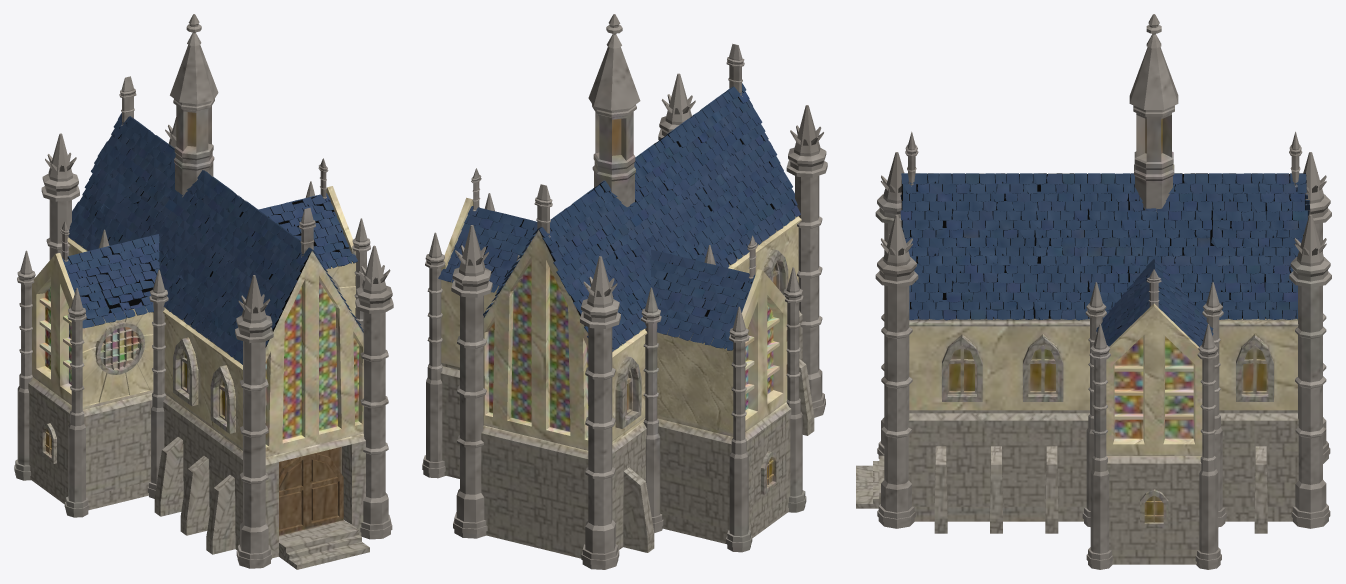
The model's file is Crypt.glb.
The picture shows the model from 3 angles, left to right: view 1: azimuth 30°, elevation 25°; view 2: azimuth 150°, elevation 25°; view 3: azimuth 270°, elevation 25°; orthographic projection. The views are drawn at different scales.
Parts seen in each view (by area): view 1: Crypte.001; view 2: Crypte.001; view 3: Crypte.001.
Boxes of the visible parts, x1=… form: Crypte.001: x1=14, y1=14, x2=393, y2=569; Crypte.001: x1=422, y1=14, x2=827, y2=569; Crypte.001: x1=856, y1=14, x2=1331, y2=569.
Size of the model in its own units: 7.5 by 10.41 by 9.43.
1 material, 1 textured.
